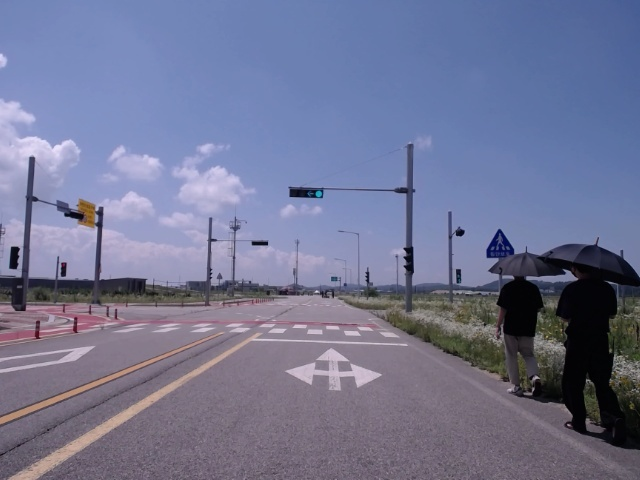all_green_4: (291, 188, 324, 198)
